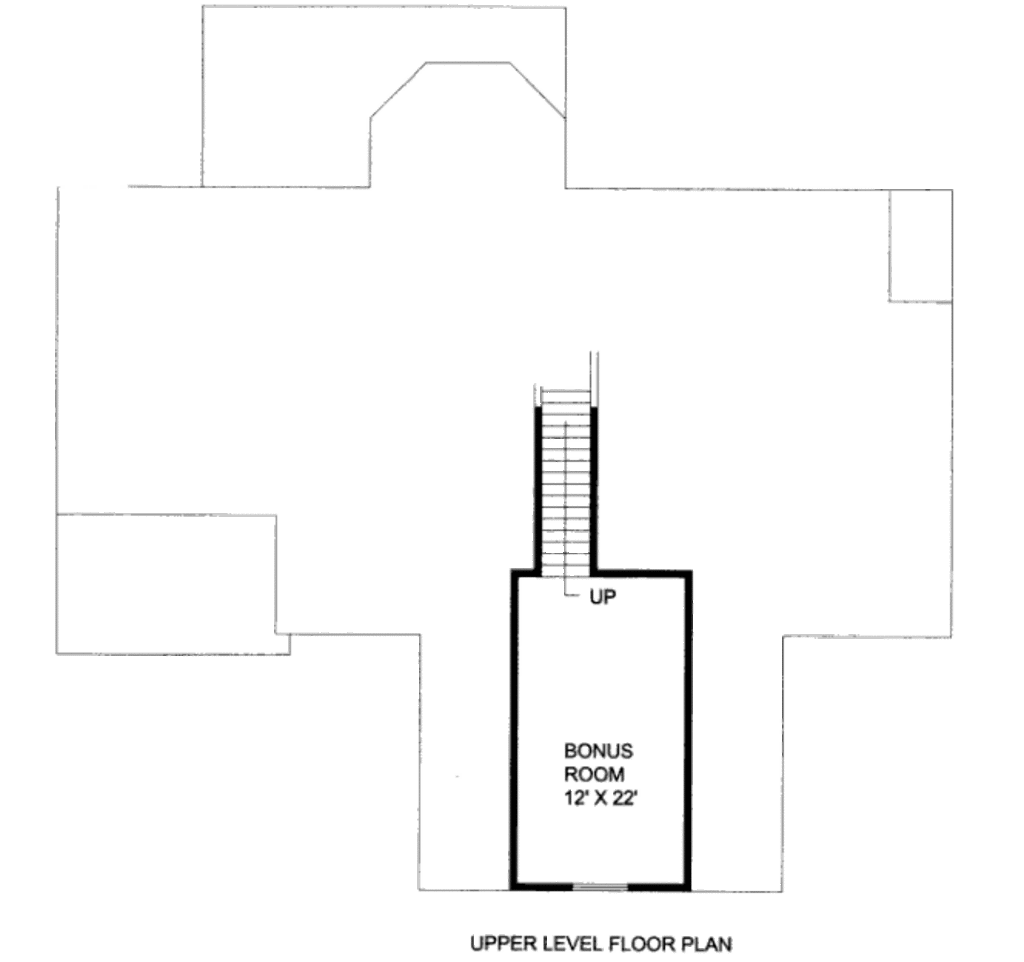stairs: (530, 341, 611, 582)
window: (565, 881, 627, 894)
